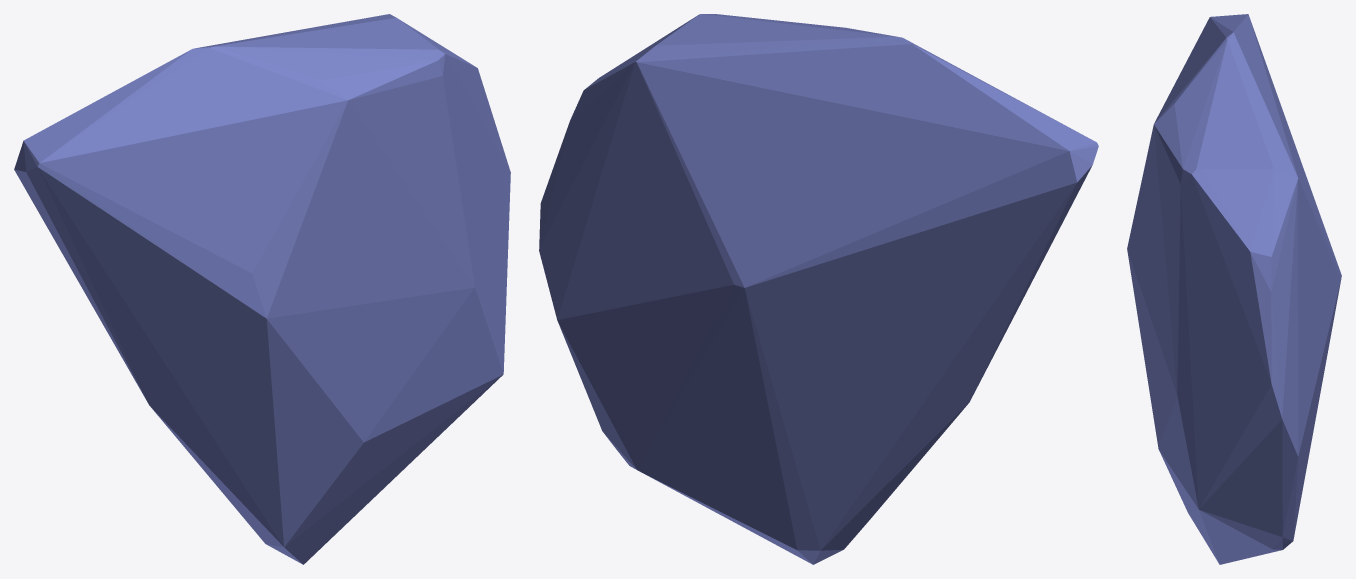
Rendered from engineComponent_oil_pump_c01.glb.
3 views of the same model, side by side, from view 1: azimuth 30°, elevation 25°; view 2: azimuth 150°, elevation 25°; view 3: azimuth 270°, elevation 25° (orthographic). The views are drawn at different scales.
Parts seen in each view (by area): view 1: geometry_0; view 2: geometry_0; view 3: geometry_0.
Boxes of the visible parts, left/top/right/bottom form: geometry_0: left=14, top=14, right=510, bottom=564; geometry_0: left=539, top=14, right=1098, bottom=564; geometry_0: left=1127, top=14, right=1341, bottom=564.
Size of the model in its own units: 0.4777 by 0.4798 by 0.1917.
